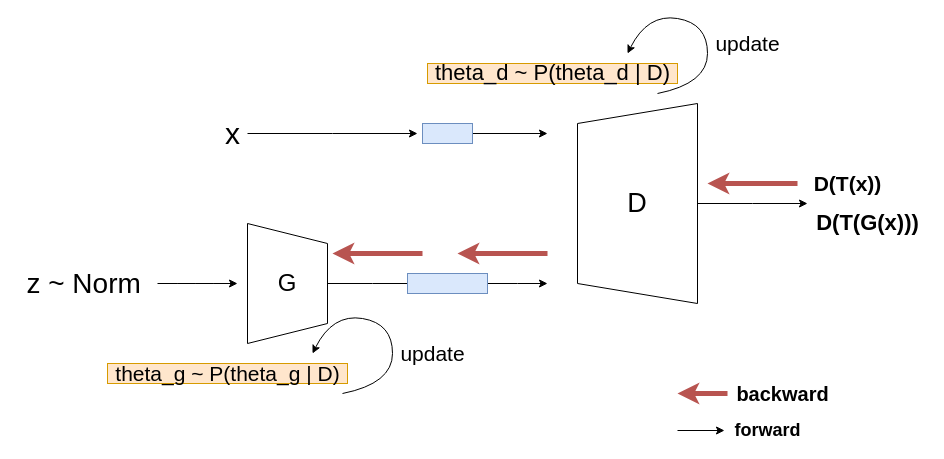
This 944x459 diagram has some shape labels left out. The centre of each missing label's shape, as x and y in pixels:
T(G(z)): pixel 447 283
T(x): pixel 447 133
